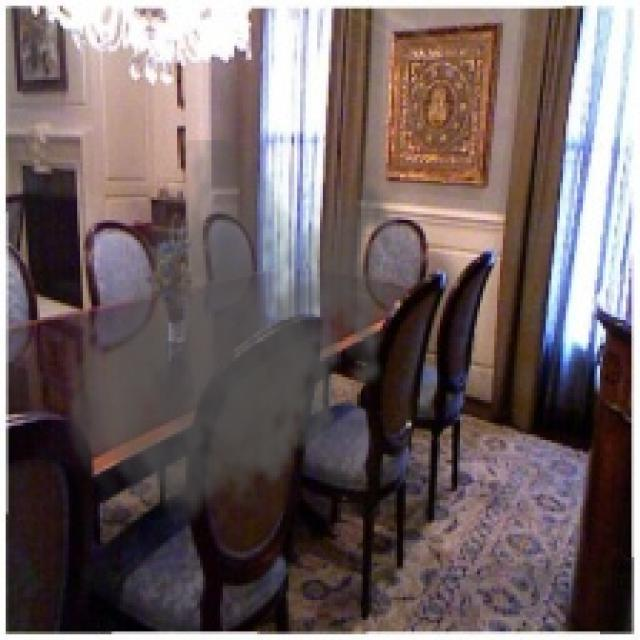Smoke: (60, 140, 406, 543)
